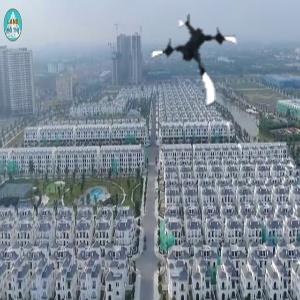drone: (147, 12, 246, 111)
